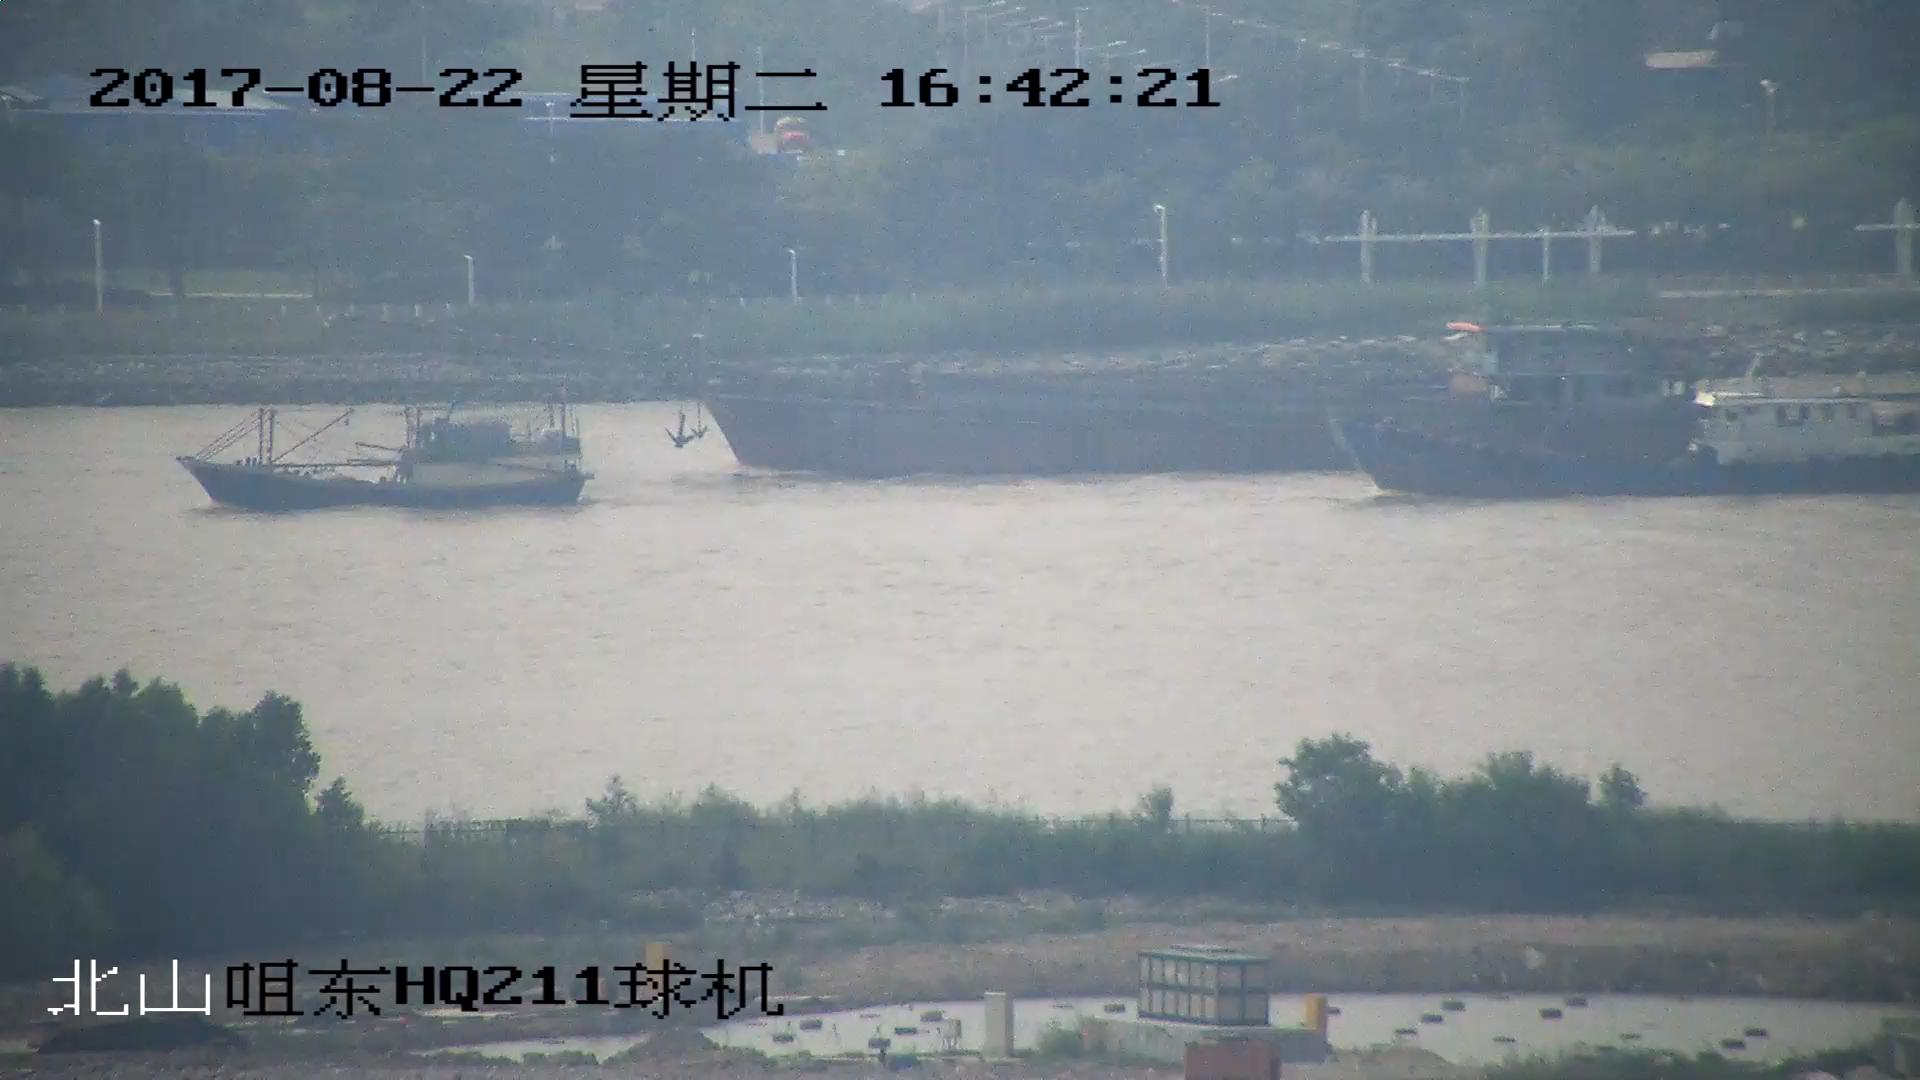bulk cargo carrier: (361, 308, 1735, 471)
fishing boat: (1336, 373, 1920, 503), (170, 410, 593, 507)
